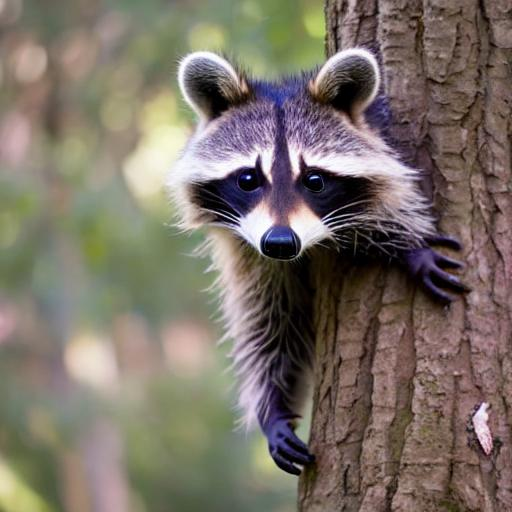raccoon: (157, 42, 414, 349)
